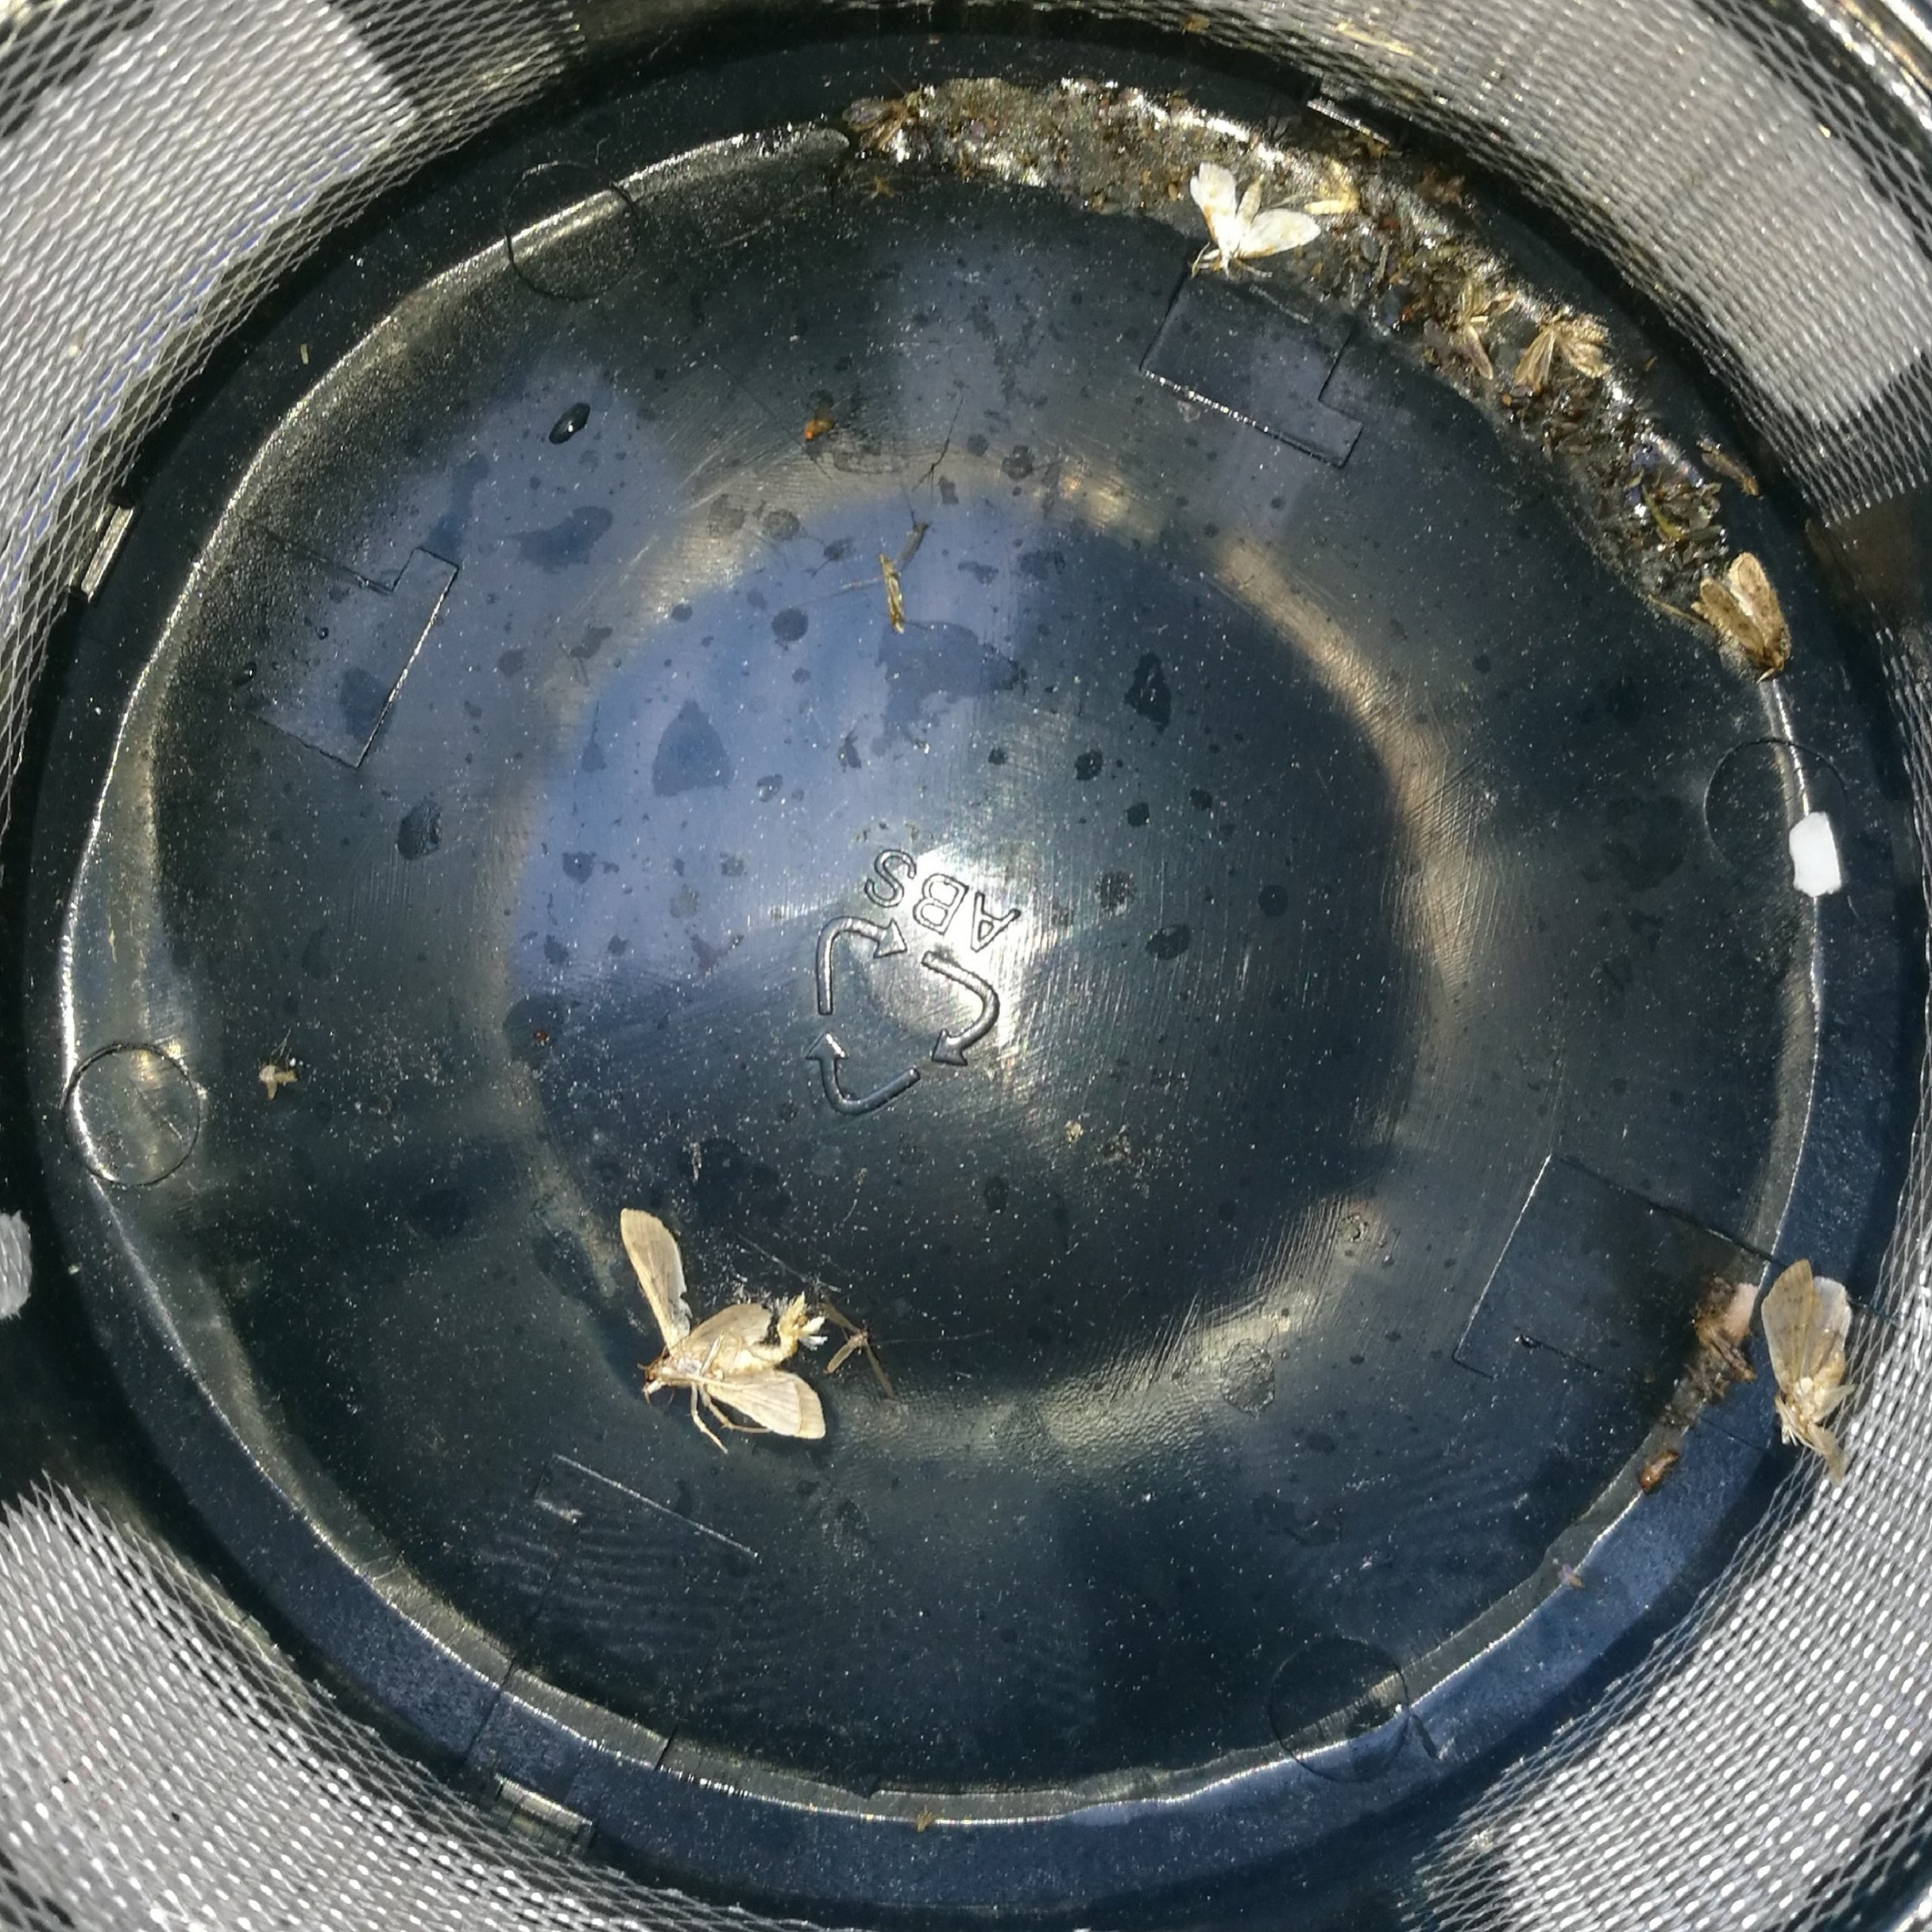moth: (617, 1210, 832, 1444), (1771, 1261, 1854, 1445), (1194, 163, 1315, 281), (1695, 552, 1789, 671)
